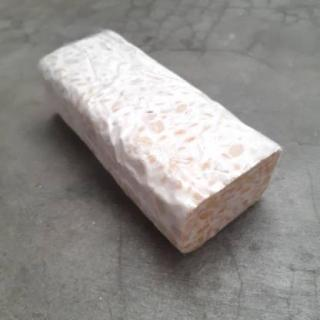Tempe: (26, 26, 285, 257)
